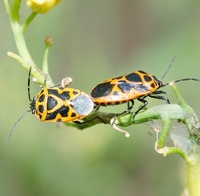insect: (7, 52, 169, 138)
